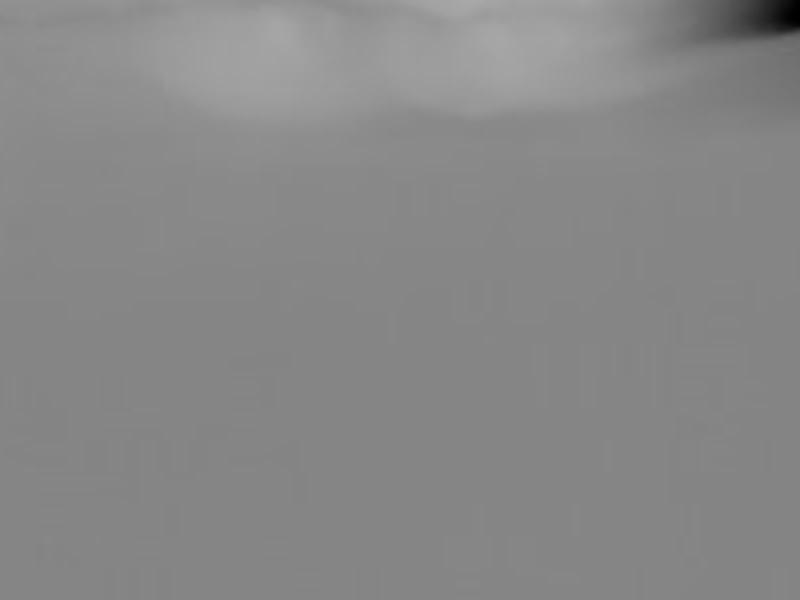defect: (721, 1, 797, 44)
